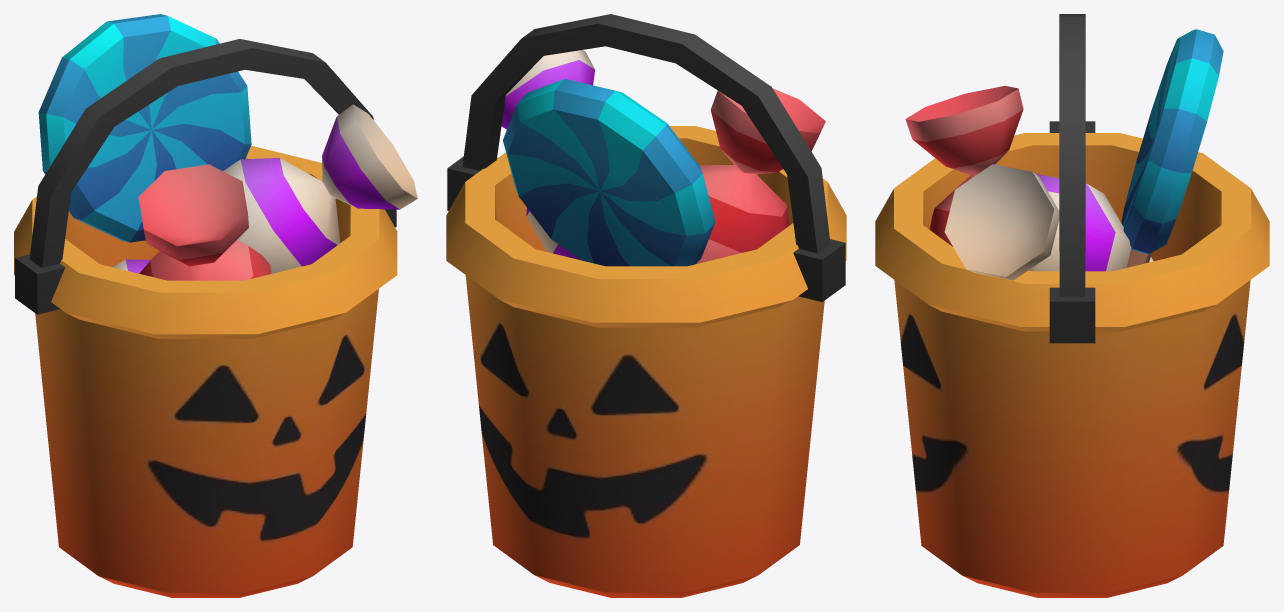
File: candy_bucket_A_decorated.gltf
3 views of the same model, side by side, from view 1: azimuth 30°, elevation 25°; view 2: azimuth 150°, elevation 25°; view 3: azimuth 270°, elevation 25° (orthographic). The views are drawn at different scales.
Parts seen in each view (by area): view 1: candy_bucket_A_decorated, candy_bucket_A_decorated_handle; view 2: candy_bucket_A_decorated, candy_bucket_A_decorated_handle; view 3: candy_bucket_A_decorated, candy_bucket_A_decorated_handle.
Boxes of the visible parts, x1,y1,x2,y2 form: candy_bucket_A_decorated: [14, 14, 417, 597]; candy_bucket_A_decorated_handle: [15, 39, 396, 314]; candy_bucket_A_decorated: [446, 50, 846, 597]; candy_bucket_A_decorated_handle: [447, 14, 845, 301]; candy_bucket_A_decorated: [875, 29, 1269, 597]; candy_bucket_A_decorated_handle: [1049, 14, 1095, 343].
Size of the model in its own units: 0.8966 by 1.17 by 0.8286.
Materials: 1 (1 with a texture image).
